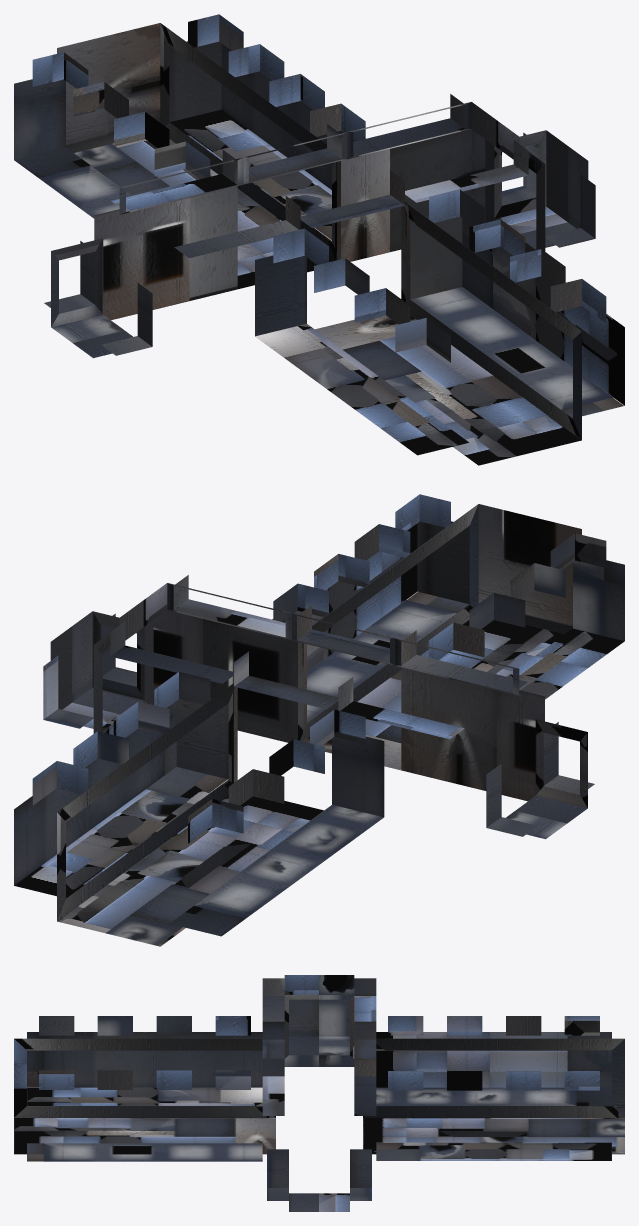
File: hall.glb
3 renders of one model, top to bottom at view 1: azimuth 30°, elevation 25°; view 2: azimuth 150°, elevation 25°; view 3: azimuth 270°, elevation 25°, orthographic. The views are drawn at different scales.
Parts seen in each view (by area): view 1: hall_low_Cube; view 2: hall_low_Cube; view 3: hall_low_Cube.
Part boxes in pixels (<box>): hall_low_Cube: <box>14,14,624,465</box>; hall_low_Cube: <box>14,494,624,946</box>; hall_low_Cube: <box>14,975,624,1211</box>.
Bounding box in the file's own units: 19 × 5 × 28.
1 material, 1 textured.
